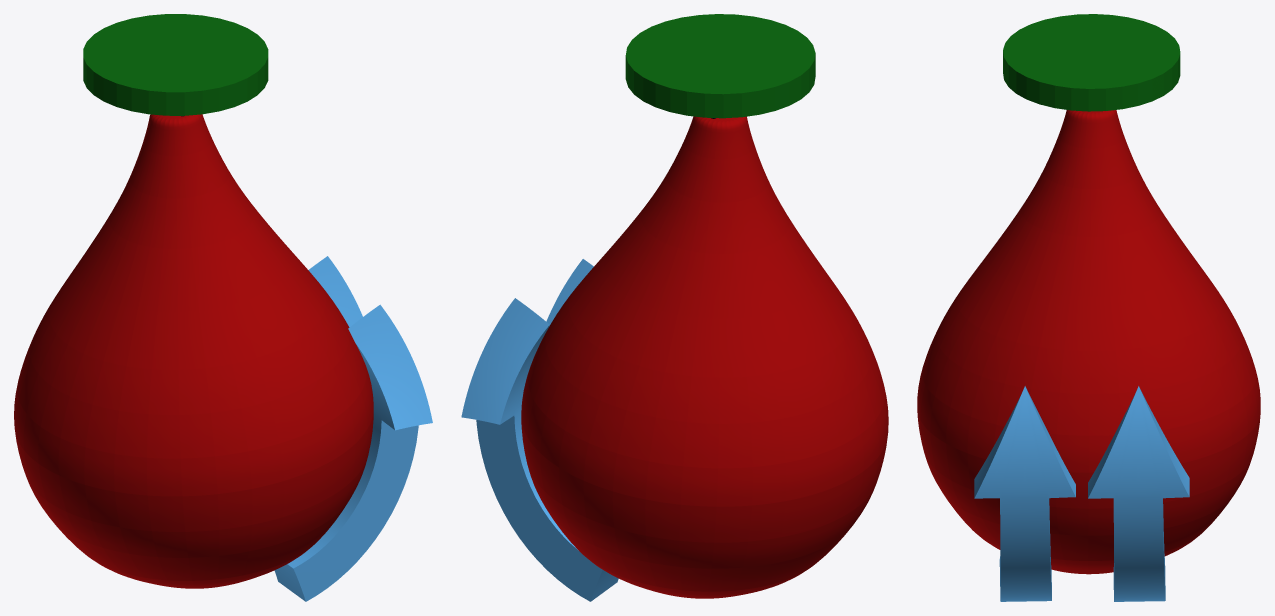
File: PunchingBall_basbas.fbx
3 views of the same model, side by side, from view 1: azimuth 30°, elevation 25°; view 2: azimuth 150°, elevation 25°; view 3: azimuth 270°, elevation 25° (orthographic). The views are drawn at different scales.
Visible parts, largest first — view 1: PunchingBall_Mini, Socle, UP_BLOCK_Left, UP_BLOCK_RIght; view 2: PunchingBall_Mini, Socle, UP_BLOCK_RIght, UP_BLOCK_Left; view 3: PunchingBall_Mini, Socle, UP_BLOCK_RIght, UP_BLOCK_Left.
Boxes of the visible parts, bbox=[...] form: PunchingBall_Mini: bbox=[14, 114, 373, 588]; Socle: bbox=[83, 14, 268, 115]; UP_BLOCK_Left: bbox=[274, 304, 432, 601]; UP_BLOCK_RIght: bbox=[308, 256, 362, 327]; PunchingBall_Mini: bbox=[521, 116, 888, 598]; Socle: bbox=[625, 14, 815, 118]; UP_BLOCK_RIght: bbox=[461, 298, 618, 601]; UP_BLOCK_Left: bbox=[546, 259, 593, 326]; PunchingBall_Mini: bbox=[917, 110, 1260, 574]; Socle: bbox=[1003, 14, 1180, 111]; UP_BLOCK_RIght: bbox=[1088, 386, 1189, 601]; UP_BLOCK_Left: bbox=[974, 386, 1075, 601].
Size of the model in its own units: 309 by 462 by 282.
